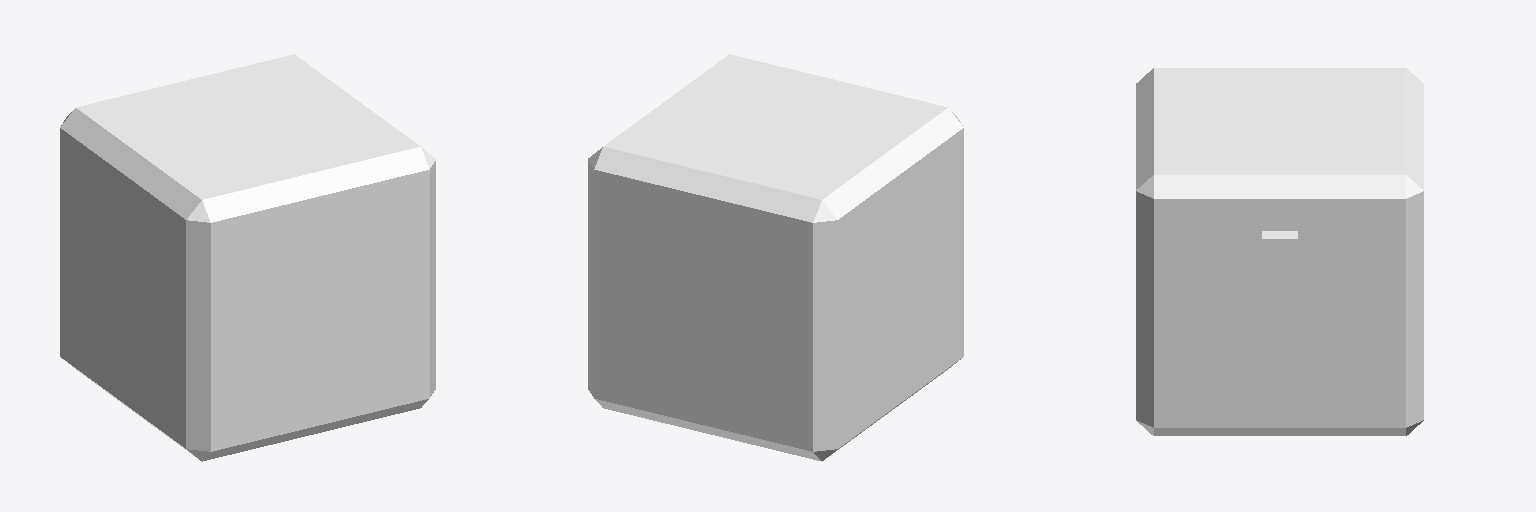
The model's file is chest.obj.
The picture shows the model from 3 angles: view 1: azimuth 30°, elevation 25°; view 2: azimuth 150°, elevation 25°; view 3: azimuth 270°, elevation 25°; orthographic projection.
Visible parts, largest first — view 1: body, top; view 2: body, top; view 3: top, body.
Boxes of the visible parts, x1,y1,x2,y2 form: body: [60, 177, 435, 461]; top: [60, 54, 435, 271]; body: [588, 177, 963, 461]; top: [588, 54, 963, 271]; top: [1136, 68, 1423, 303]; body: [1136, 241, 1423, 435].
Bounding box in the file's own units: 1.06 × 1 × 1.